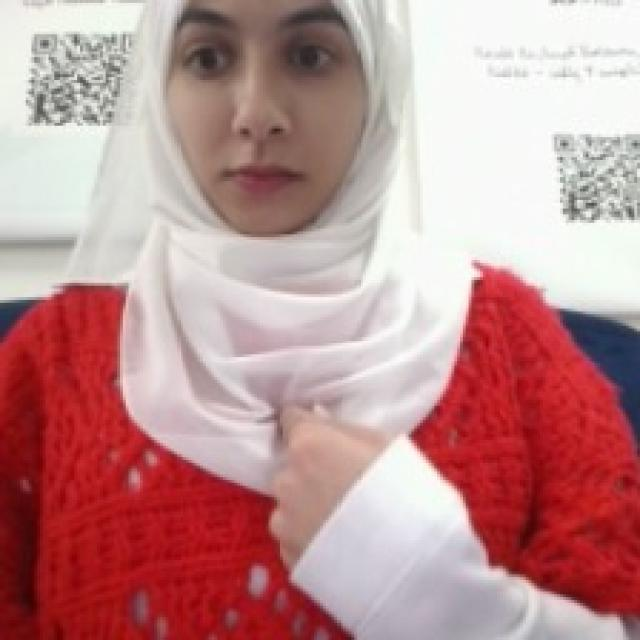me: (259, 397, 400, 580)
